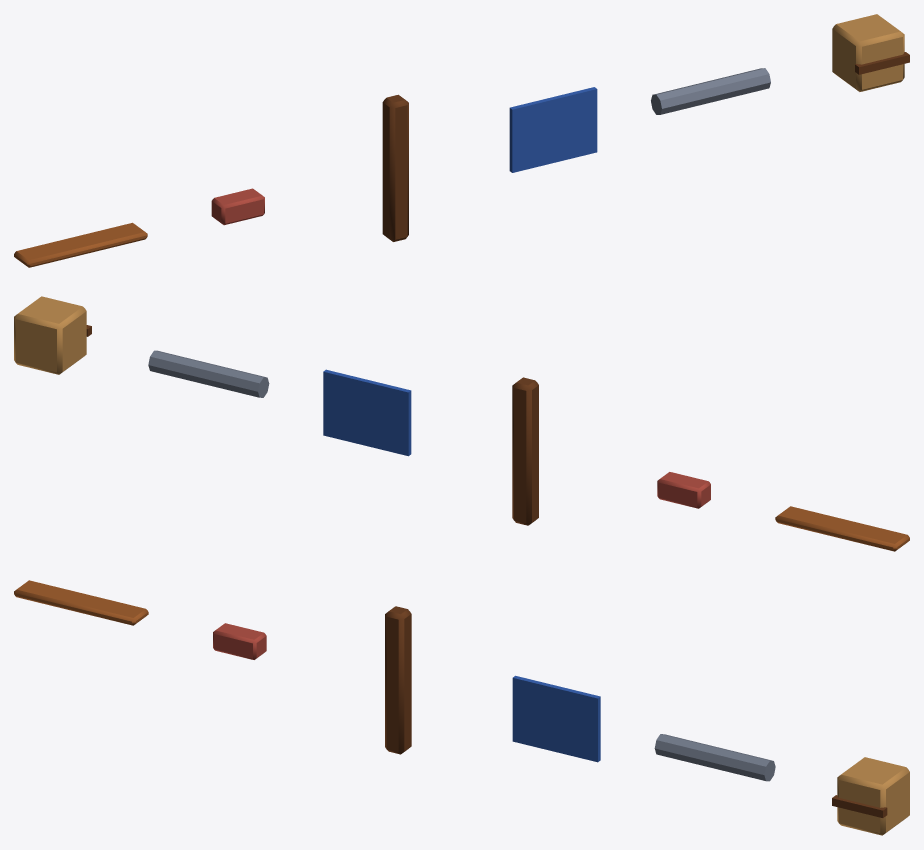
The model's file is fx_build_parts.glb.
3 views of the same model, one above another, from view 1: azimuth 30°, elevation 25°; view 2: azimuth 150°, elevation 25°; view 3: azimuth 330°, elevation 25° (orthographic).
Visible parts, largest first — view 1: part_4, part_6, part_3, part_5, part_1, part_2; view 2: part_4, part_6, part_3, part_5, part_1, part_2; view 3: part_4, part_6, part_3, part_5, part_1, part_2.
Boxes of the visible parts, bbox=[...] form: part_4: bbox=[509, 87, 597, 172]; part_6: bbox=[832, 14, 909, 91]; part_3: bbox=[382, 94, 408, 241]; part_5: bbox=[651, 68, 770, 114]; part_1: bbox=[14, 222, 147, 267]; part_2: bbox=[211, 188, 264, 225]; part_4: bbox=[323, 369, 411, 456]; part_6: bbox=[14, 296, 91, 374]; part_3: bbox=[512, 377, 538, 525]; part_5: bbox=[148, 350, 269, 397]; part_1: bbox=[775, 506, 909, 551]; part_2: bbox=[657, 472, 710, 508]; part_4: bbox=[512, 675, 600, 762]; part_6: bbox=[832, 757, 909, 835]; part_3: bbox=[385, 606, 411, 754]; part_5: bbox=[654, 734, 775, 781]; part_1: bbox=[14, 580, 148, 625]; part_2: bbox=[213, 623, 266, 659].
Bounding box in the file's own units: 7.21 × 1.1 × 0.43.
